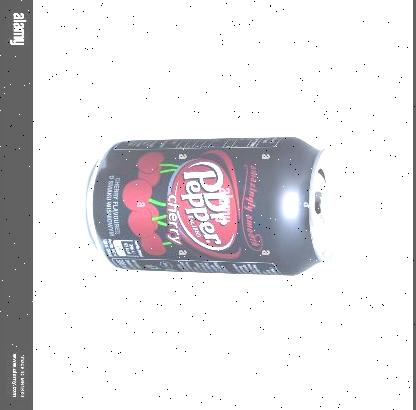Can: (85, 137, 346, 277)
